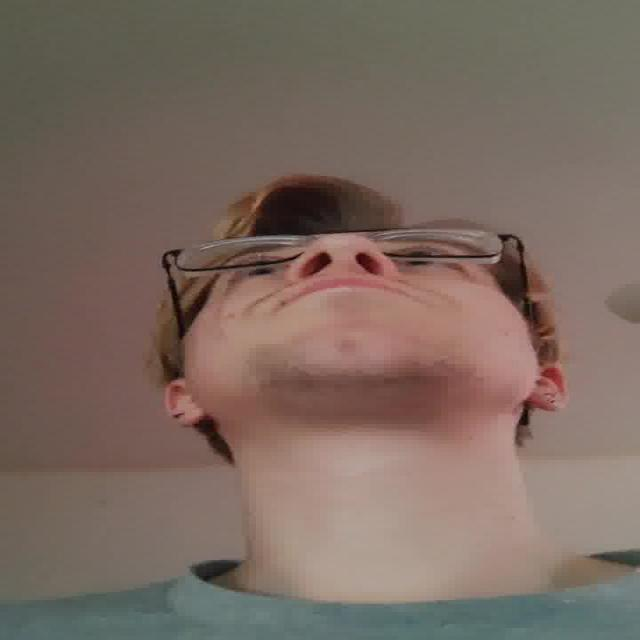earlobe: (528, 392, 571, 412), (173, 410, 210, 428)
eye: (391, 250, 457, 271), (225, 262, 289, 282)
nose: (290, 262, 397, 280)
wholeear: (527, 362, 574, 413), (164, 378, 210, 427)
